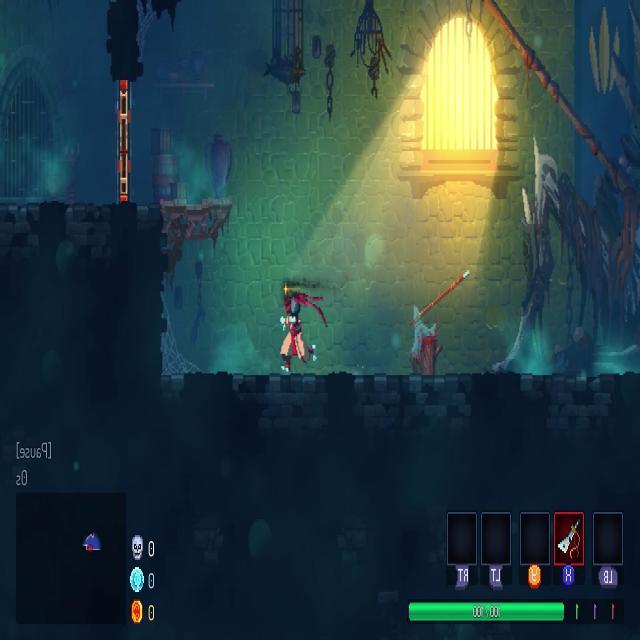agents: (278, 286, 315, 370)
door_regular: (116, 75, 132, 207)
wood_floor: (158, 193, 234, 250)
